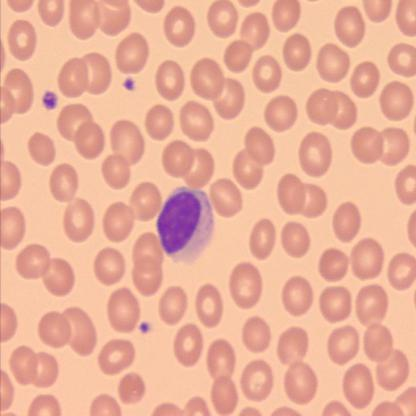Lymphocyte: (156, 185, 214, 264)
